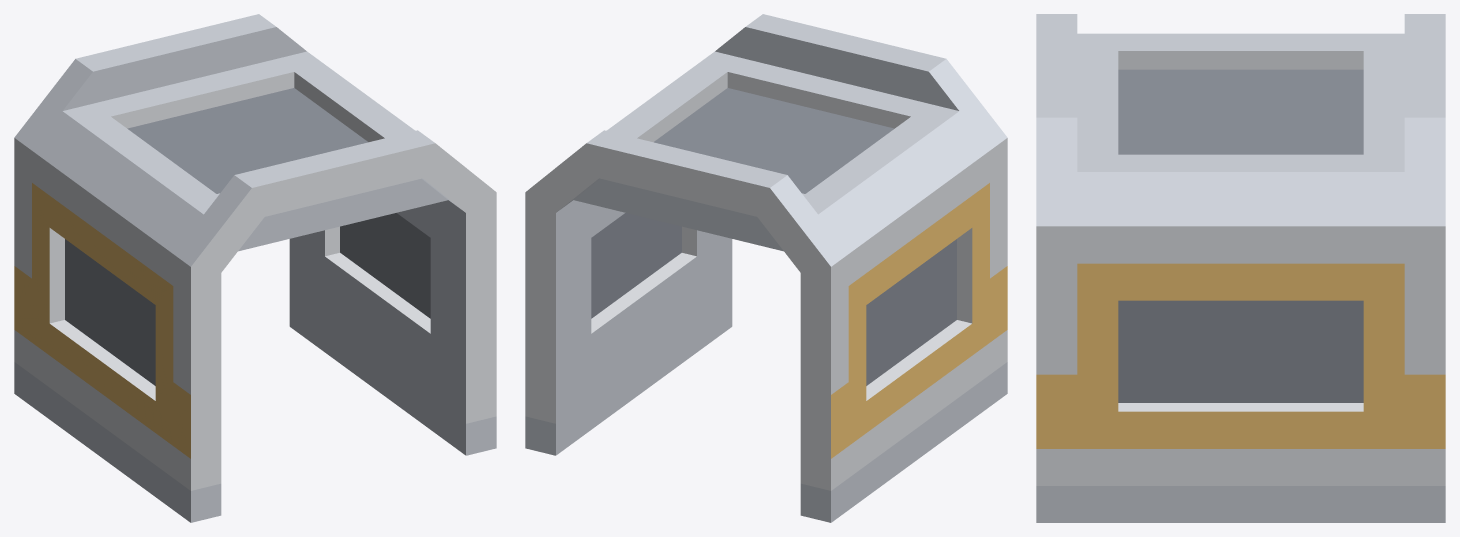
File: corridor_windowClosed.glb
3 renders of one model, left to right at view 1: azimuth 30°, elevation 25°; view 2: azimuth 150°, elevation 25°; view 3: azimuth 270°, elevation 25°, orthographic. The views are drawn at different scales.
Parts seen in each view (by area): view 1: corridor_windowClosed; view 2: corridor_windowClosed; view 3: corridor_windowClosed.
Boxes of the visible parts, bbox=[...] form: corridor_windowClosed: bbox=[14, 14, 496, 522]; corridor_windowClosed: bbox=[525, 14, 1007, 522]; corridor_windowClosed: bbox=[1036, 14, 1445, 522].
Bounding box in the file's own units: 1 × 1 × 1.
